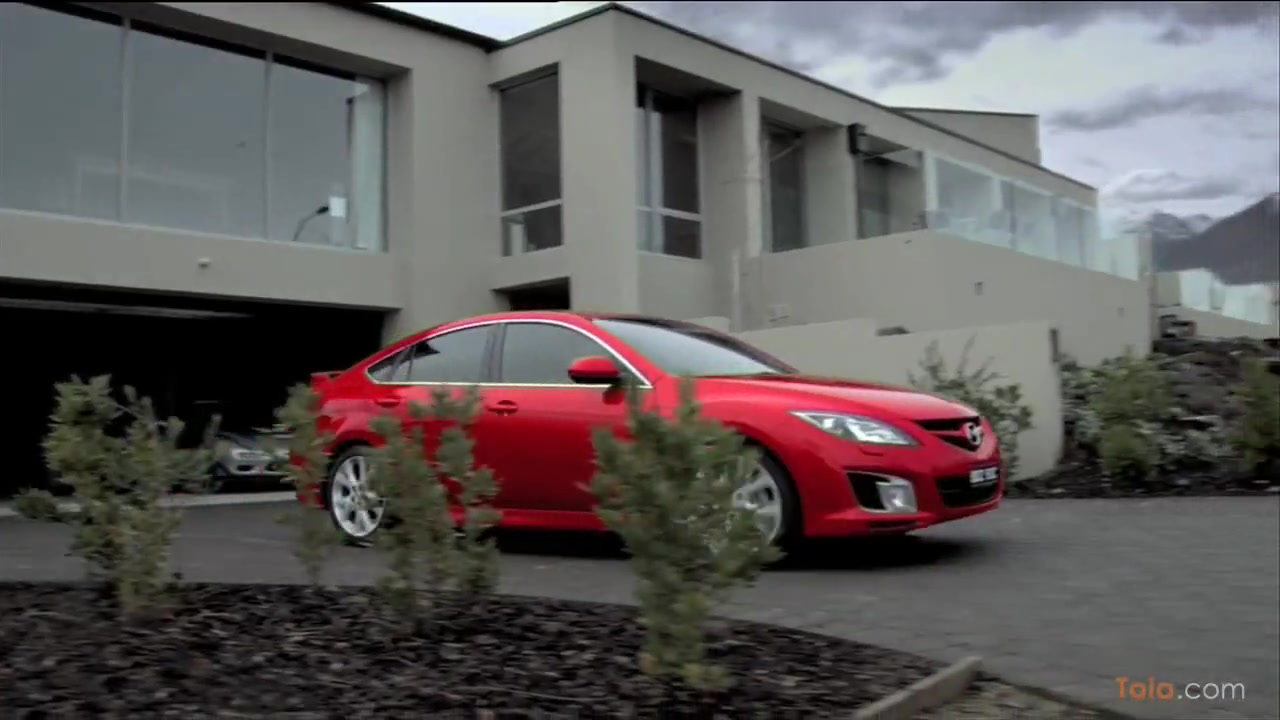car: (290, 312, 1007, 560)
